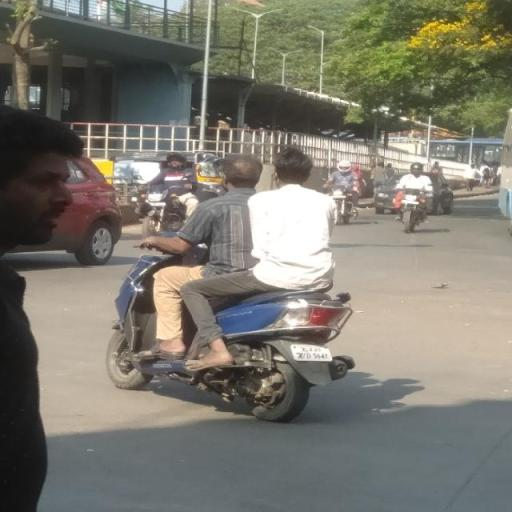bike: (103, 146, 367, 424)
numberplate: (292, 344, 333, 362)
withouthelmet: (275, 148, 311, 186), (223, 158, 259, 190)
